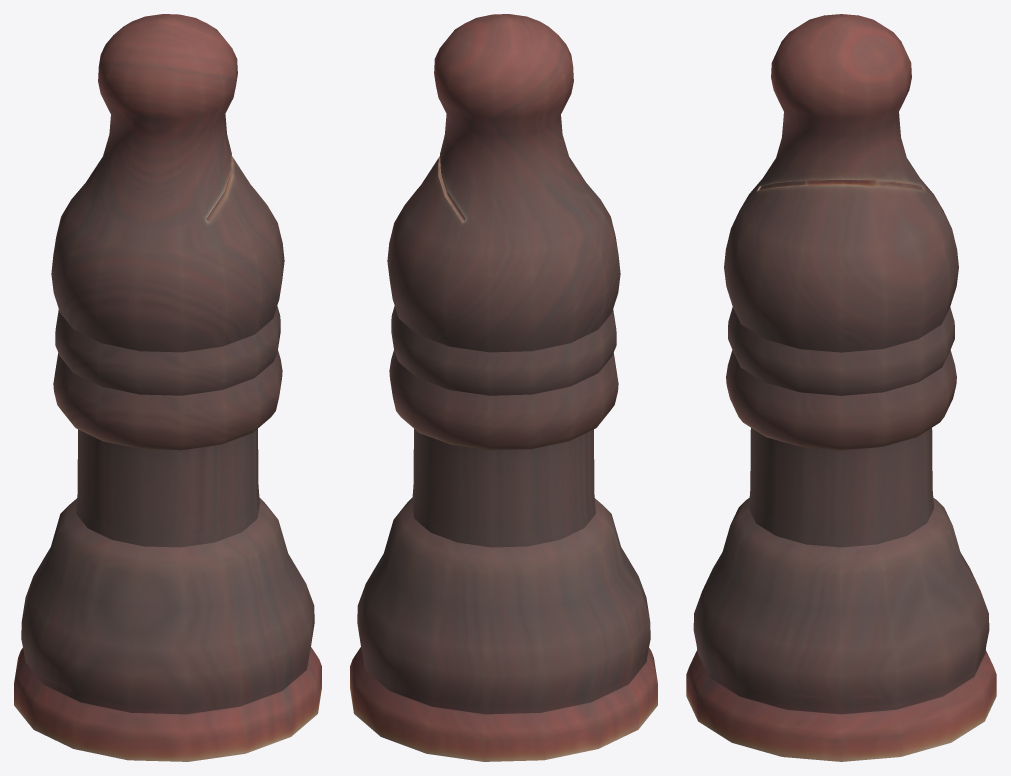
File: Слон.fbx
3 views of the same model, side by side, from view 1: azimuth 30°, elevation 25°; view 2: azimuth 150°, elevation 25°; view 3: azimuth 270°, elevation 25° (orthographic).
Parts seen in each view (by area): view 1: Слон белый; view 2: Слон белый; view 3: Слон белый.
Boxes of the visible parts, <box> form: Слон белый: <box>14,14,321,761</box>; Слон белый: <box>350,14,657,761</box>; Слон белый: <box>686,14,996,761</box>.
Size of the model in its own units: 195 by 468 by 195.
1 material, 1 textured.
